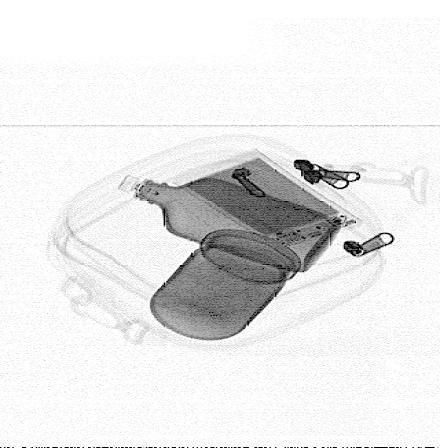Powerbank: (163, 148, 363, 251)
